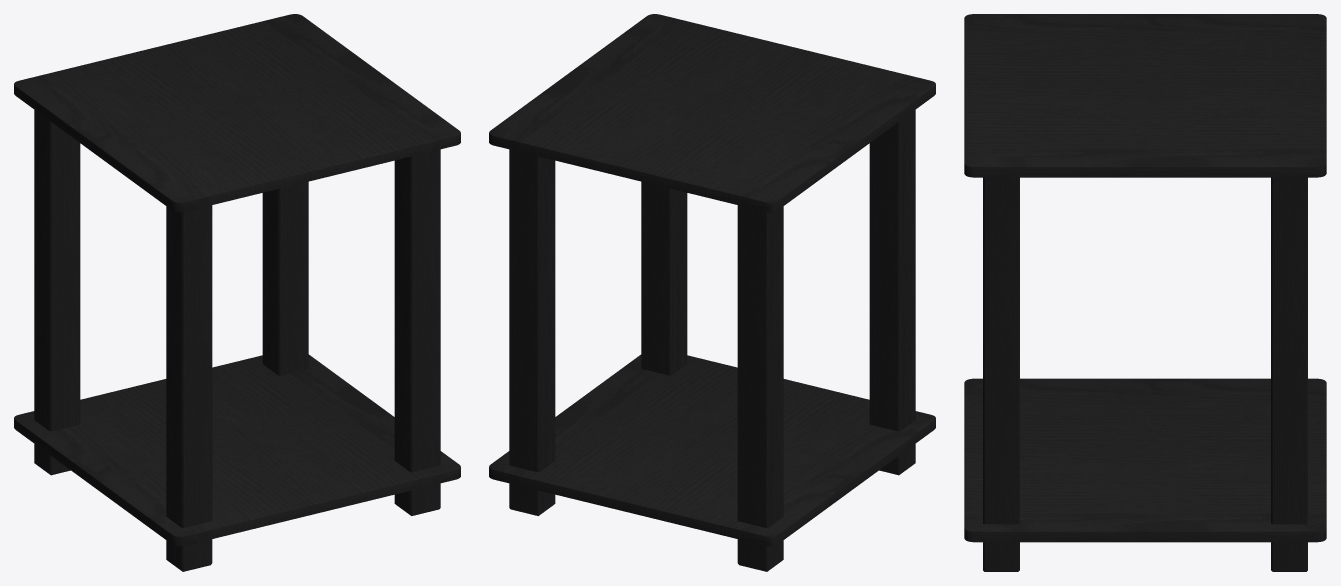
3 views of the same model, side by side, from view 1: azimuth 30°, elevation 25°; view 2: azimuth 150°, elevation 25°; view 3: azimuth 270°, elevation 25° (orthographic). The views are drawn at different scales.
Visible parts, largest first — view 1: not_clear_obj_0_v6; view 2: not_clear_obj_0_v6; view 3: not_clear_obj_0_v6.
Part boxes in pixels (x1=…): not_clear_obj_0_v6: x1=14, y1=14, x2=460, y2=571; not_clear_obj_0_v6: x1=489, y1=14, x2=935, y2=571; not_clear_obj_0_v6: x1=964, y1=14, x2=1326, y2=571.
Bounding box in the file's own units: 15.6 × 19.62 × 15.6.
1 material, 1 textured.
